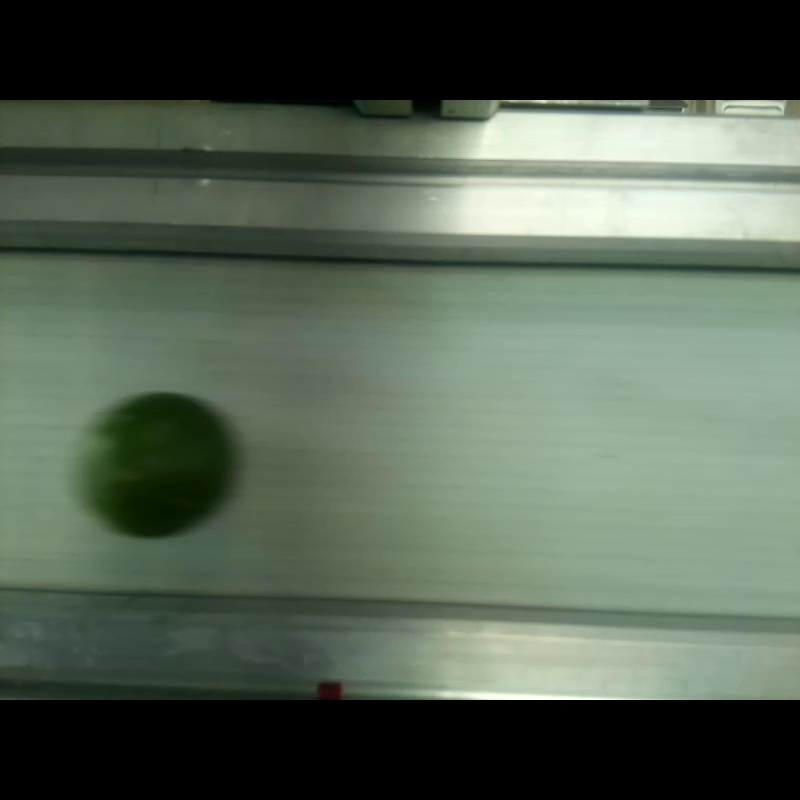lime: (83, 392, 236, 539)
